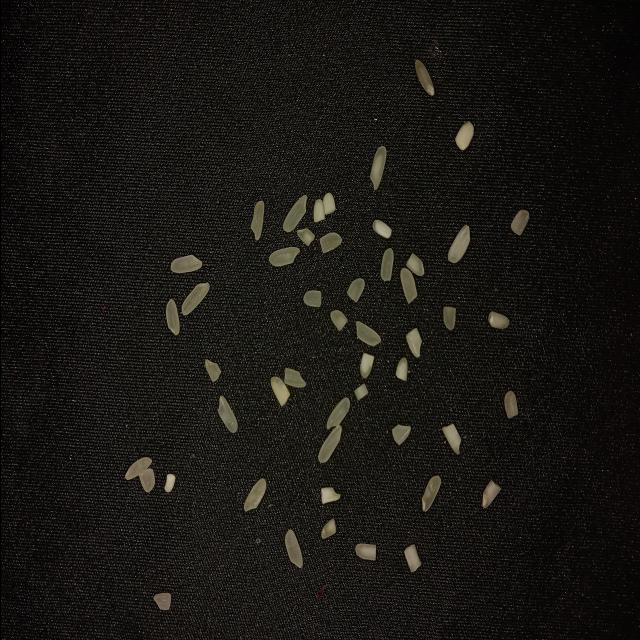Broken: (398, 268, 416, 305), (441, 423, 461, 455), (270, 377, 290, 407), (404, 327, 422, 358), (480, 481, 500, 508), (454, 120, 472, 150), (318, 232, 342, 254), (403, 543, 421, 572), (509, 210, 528, 236), (404, 253, 424, 277), (379, 248, 393, 281), (390, 423, 410, 445), (284, 368, 306, 388), (204, 359, 222, 383), (346, 278, 364, 302), (358, 352, 374, 378), (371, 219, 391, 239), (138, 468, 154, 493), (503, 391, 517, 419), (354, 543, 375, 561), (487, 312, 509, 329), (320, 486, 340, 504), (329, 310, 347, 330), (320, 518, 336, 540), (394, 356, 408, 381), (442, 306, 456, 330), (152, 592, 170, 610), (321, 193, 335, 215), (302, 290, 320, 307), (296, 228, 314, 245), (312, 199, 324, 223), (353, 384, 368, 402), (163, 473, 174, 493)
Full: (180, 282, 208, 316), (282, 195, 307, 232), (317, 424, 341, 462), (446, 225, 469, 263), (325, 396, 349, 429), (368, 146, 386, 190), (243, 478, 266, 512), (420, 474, 440, 512), (216, 394, 236, 432), (284, 529, 302, 569), (414, 60, 434, 96), (169, 254, 202, 274), (354, 321, 380, 346), (124, 456, 151, 480), (268, 247, 299, 267), (250, 200, 264, 240), (165, 299, 179, 336)
